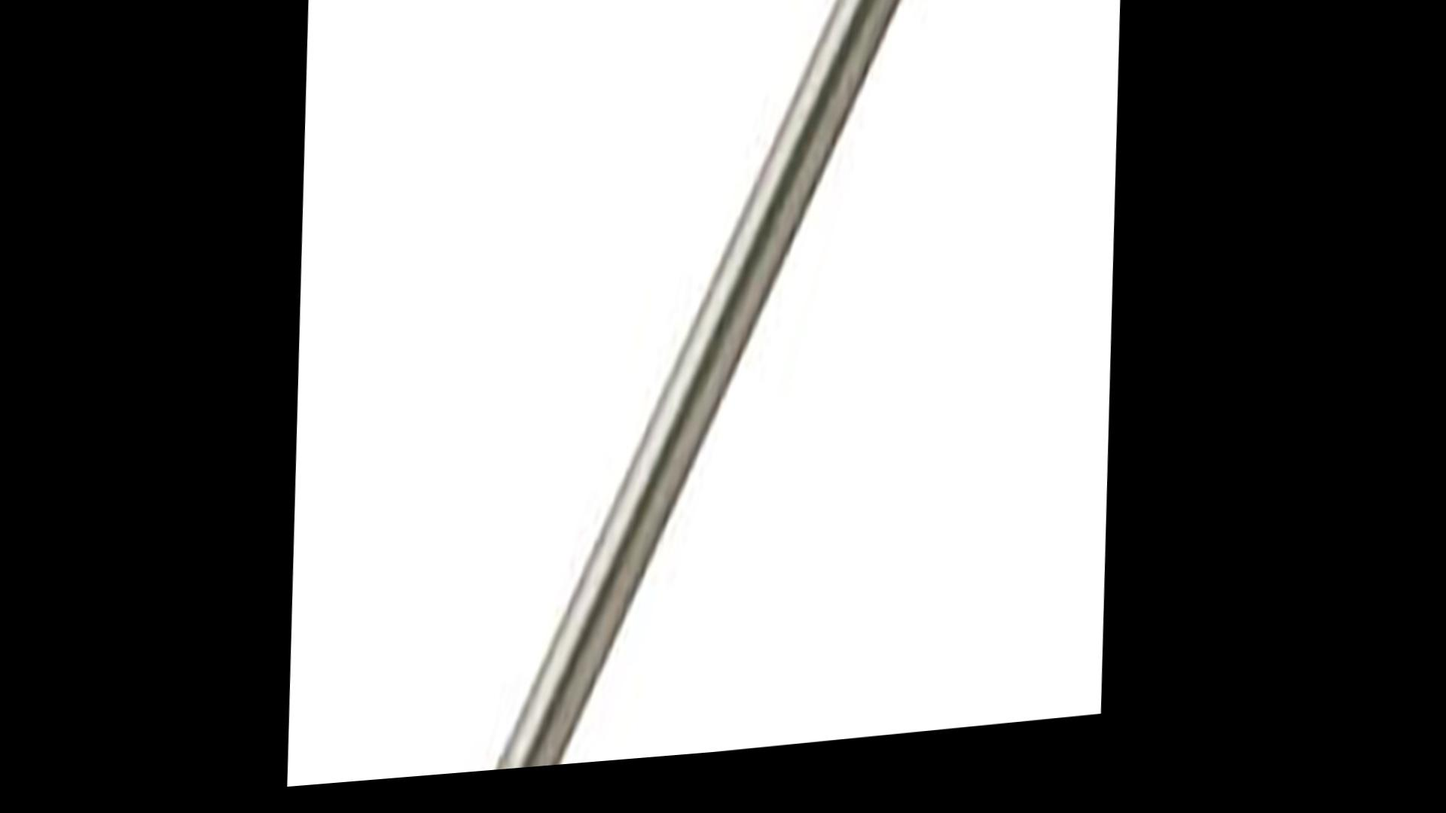nail: (371, 0, 1061, 787)
